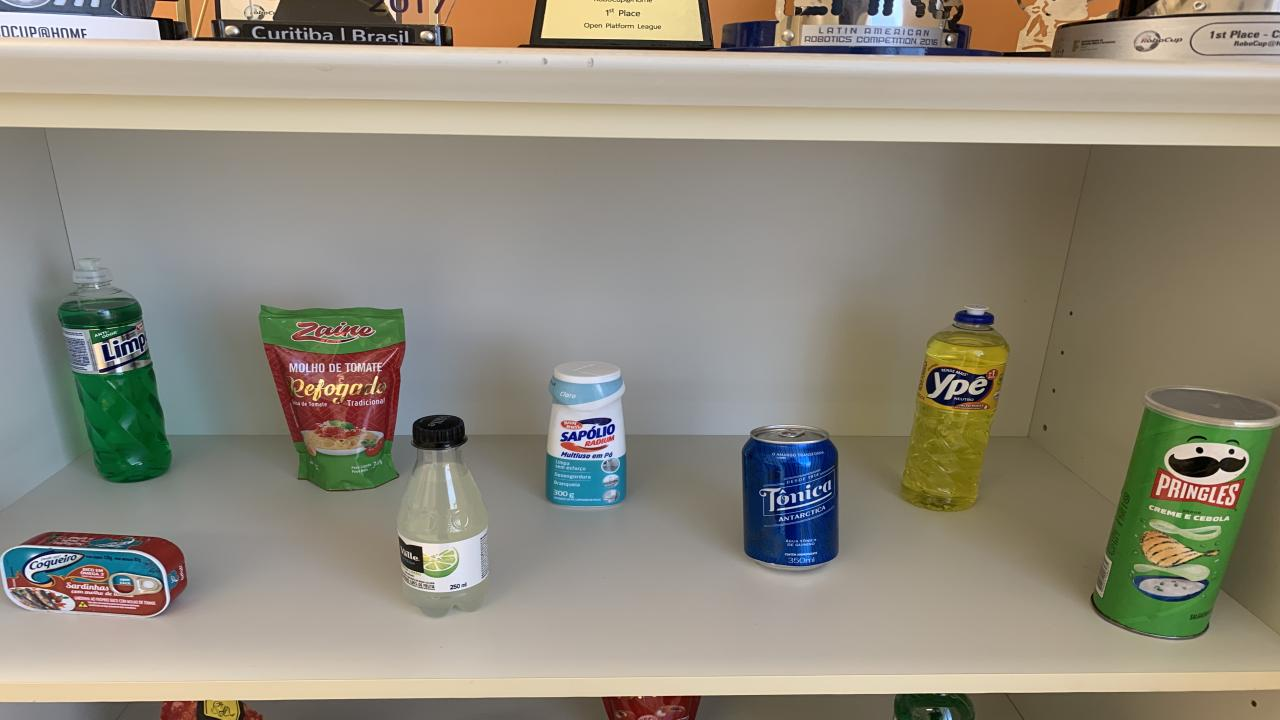Cleaner-Cleanup_Items: (545, 362, 625, 506)
Detergent-Cleanup_Items: (58, 259, 170, 482), (900, 306, 1010, 510), (895, 694, 975, 720)
Pringles-Snacks: (1090, 386, 1280, 639)
Soda-Drinks: (398, 414, 488, 617)
Tomato_Sauce-Pantry_Items: (260, 306, 405, 491), (602, 696, 700, 720), (160, 699, 262, 720)
Tonic-Drinks: (742, 424, 838, 570)
Tuna_Can-Pantry_Items: (0, 532, 188, 617)
